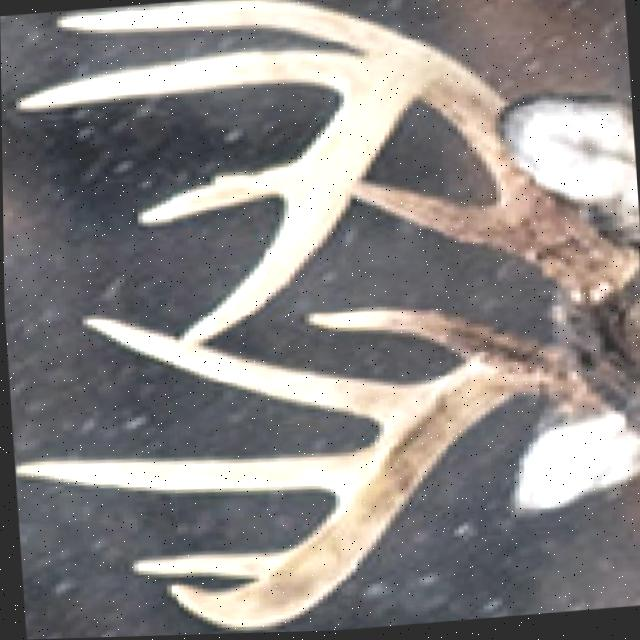L-F: (179, 40, 640, 346)
L-G1: (357, 183, 510, 258)
L-G2: (54, 0, 402, 56)
L-G3: (12, 51, 365, 113)
L-G4: (133, 166, 290, 227)
R-F: (162, 340, 601, 633)
R-G1: (301, 310, 524, 364)
R-G2: (78, 315, 426, 427)
R-G3: (13, 454, 359, 496)
R-G4: (129, 552, 290, 581)
